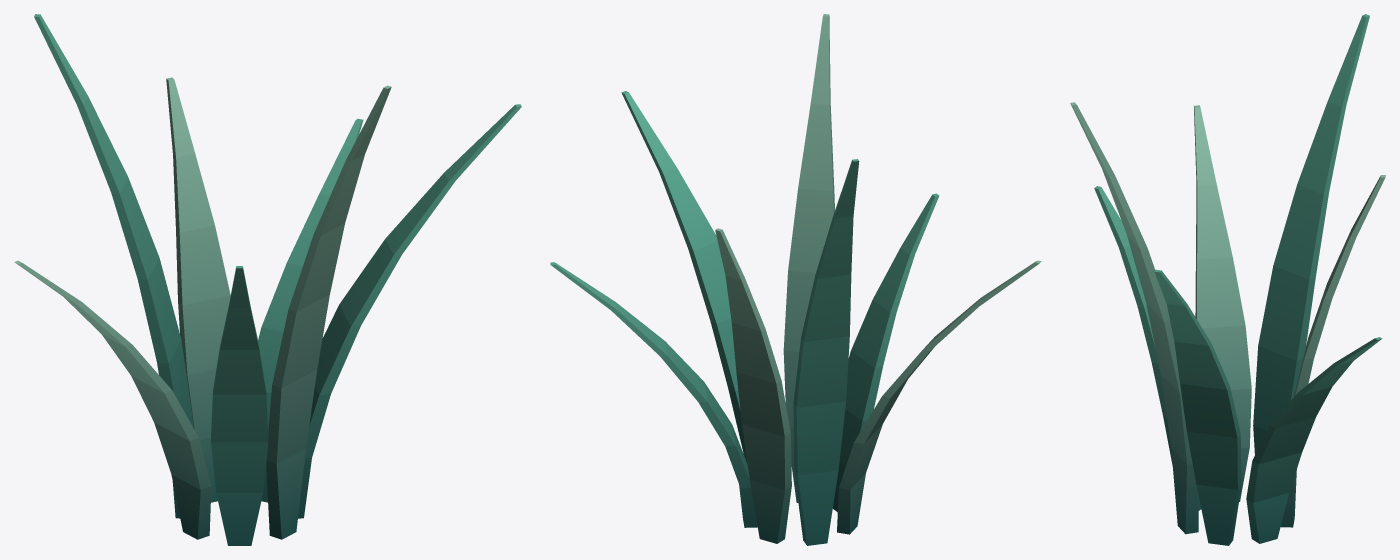
Rendered from Ocean_Seagrass_Ribbon_Cluster.glb.
3 renders of one model, left to right at view 1: azimuth 30°, elevation 25°; view 2: azimuth 150°, elevation 25°; view 3: azimuth 270°, elevation 25°, orthographic. The views are drawn at different scales.
Parts seen in each view (by area): view 1: Ocean_Seagrass_Ribbon_Cluster; view 2: Ocean_Seagrass_Ribbon_Cluster; view 3: Ocean_Seagrass_Ribbon_Cluster.
Boxes of the visible parts, x1,y1,x2,y2 form: Ocean_Seagrass_Ribbon_Cluster: (14, 14, 521, 545); Ocean_Seagrass_Ribbon_Cluster: (550, 14, 1041, 545); Ocean_Seagrass_Ribbon_Cluster: (1070, 14, 1385, 545).
Size of the model in its own units: 0.656 by 0.6258 by 0.4015.
